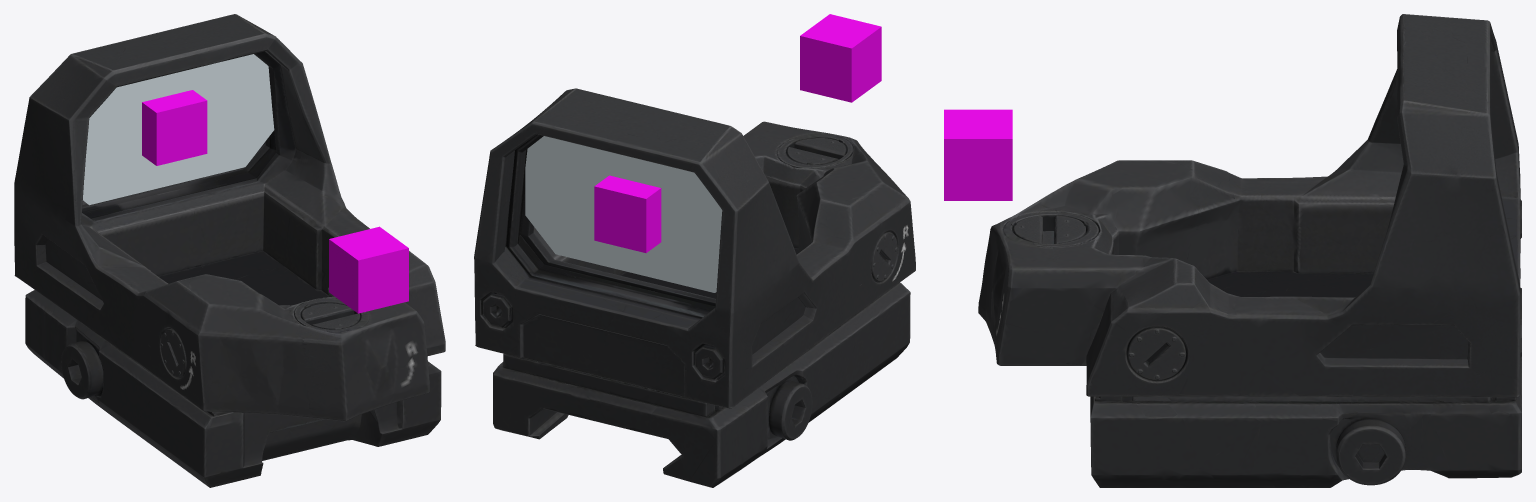
The model's file is HoloSight_SMG.glb.
3 views of the same model, side by side, from view 1: azimuth 30°, elevation 25°; view 2: azimuth 150°, elevation 25°; view 3: azimuth 270°, elevation 25° (orthographic). The views are drawn at different scales.
Parts seen in each view (by area): view 1: Glass, RedDot_13, RedDot_33, RedDot_15, RedDot_30, RedDot_14, RedDot_29, RedDot_32, RedDot_21, Point_SightRear, RedDot_28, RedDot_12 (+22 smaller); view 2: RedDot_01, Glass, RedDot_03, Point_SightRear, RedDot_14, RedDot_04, RedDot_11, RedDot_29, Point_SightFront, RedDot_12, RedDot_05, RedDot_25 (+24 smaller); view 3: RedDot_21, RedDot_25, RedDot_14, RedDot_24, RedDot_17, RedDot_23, RedDot_28, RedDot_03, RedDot_27, RedDot_15, RedDot_26, RedDot_32 (+22 smaller).
Boxes of the visible parts, x1,y1,x2,y2 form: Glass: (83, 54, 274, 205); RedDot_13: (48, 26, 297, 374); RedDot_33: (286, 303, 429, 421); RedDot_15: (59, 33, 318, 385); RedDot_30: (197, 296, 445, 485); RedDot_14: (50, 29, 307, 360); RedDot_29: (185, 277, 441, 487); RedDot_32: (238, 302, 408, 415); RedDot_21: (100, 210, 363, 432); Point_SightRear: (329, 226, 408, 313); RedDot_28: (179, 259, 433, 485); RedDot_12: (41, 23, 284, 378); RedDot_01: (474, 234, 734, 487); Glass: (525, 136, 722, 292); RedDot_03: (478, 150, 743, 487); Point_SightRear: (800, 14, 881, 102); RedDot_14: (533, 88, 788, 458); RedDot_04: (489, 123, 749, 482); RedDot_11: (518, 98, 768, 469); RedDot_29: (754, 155, 912, 359); Point_SightFront: (594, 175, 661, 252); RedDot_12: (520, 96, 771, 468); RedDot_05: (503, 118, 753, 479); RedDot_25: (802, 188, 881, 395); RedDot_21: (1261, 177, 1330, 487); RedDot_25: (1166, 160, 1220, 487); RedDot_14: (1388, 14, 1435, 470); RedDot_24: (1176, 165, 1261, 487); RedDot_17: (1343, 118, 1392, 485); RedDot_23: (1199, 174, 1270, 487); RedDot_28: (1104, 160, 1165, 487); RedDot_03: (1487, 41, 1517, 477); RedDot_27: (1107, 160, 1175, 487); RedDot_15: (1368, 14, 1418, 481); RedDot_26: (1130, 160, 1182, 487); RedDot_32: (1011, 188, 1083, 365).
Size of the model in its own units: 0.152 by 0.1926 by 0.2525.
4 materials, 1 textured.
